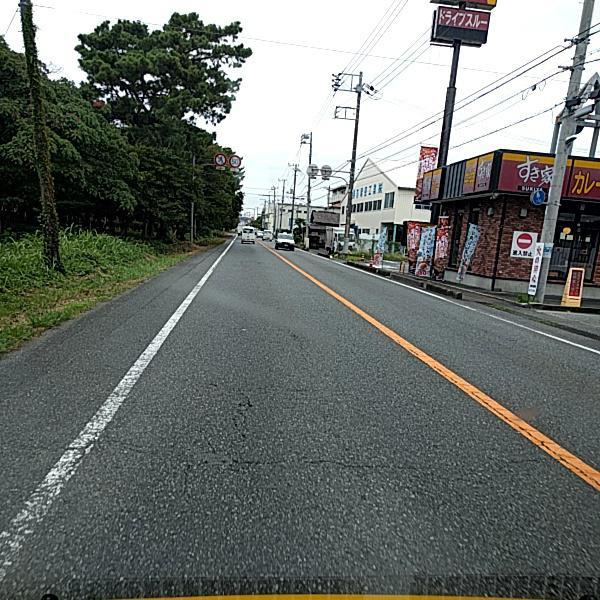D00: (227, 383, 252, 445)
D10: (202, 448, 428, 480), (480, 449, 540, 475)
D44: (0, 277, 203, 556), (392, 330, 599, 494)
